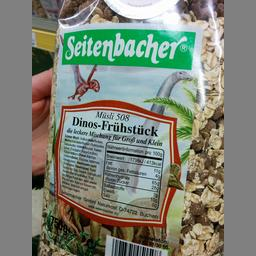cereal: (38, 4, 223, 254)
